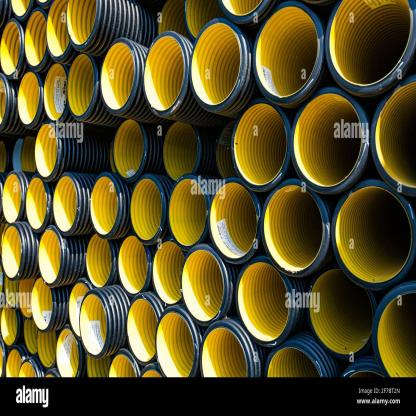PVC: (1, 0, 415, 375)
